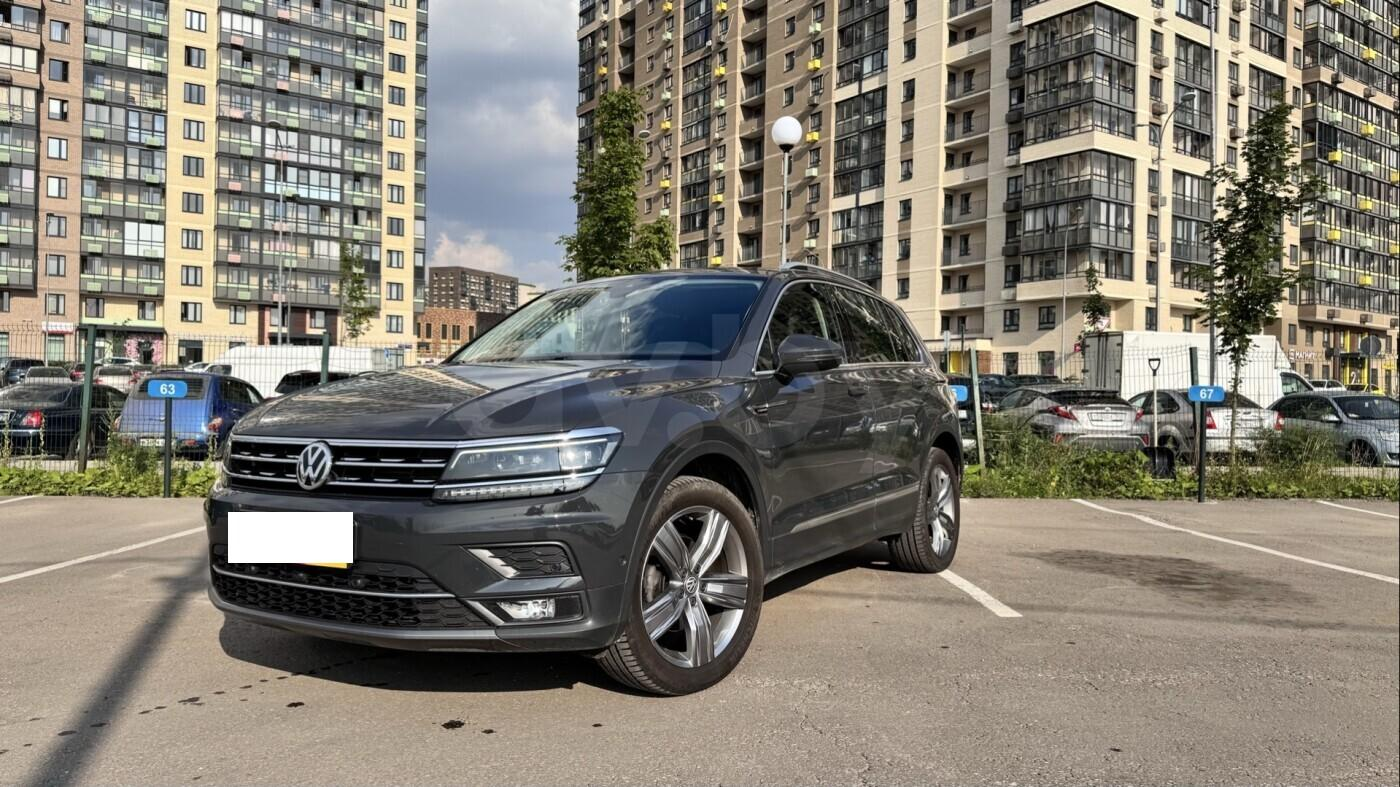Tiguan_2016-2021: (201, 265, 968, 697)
